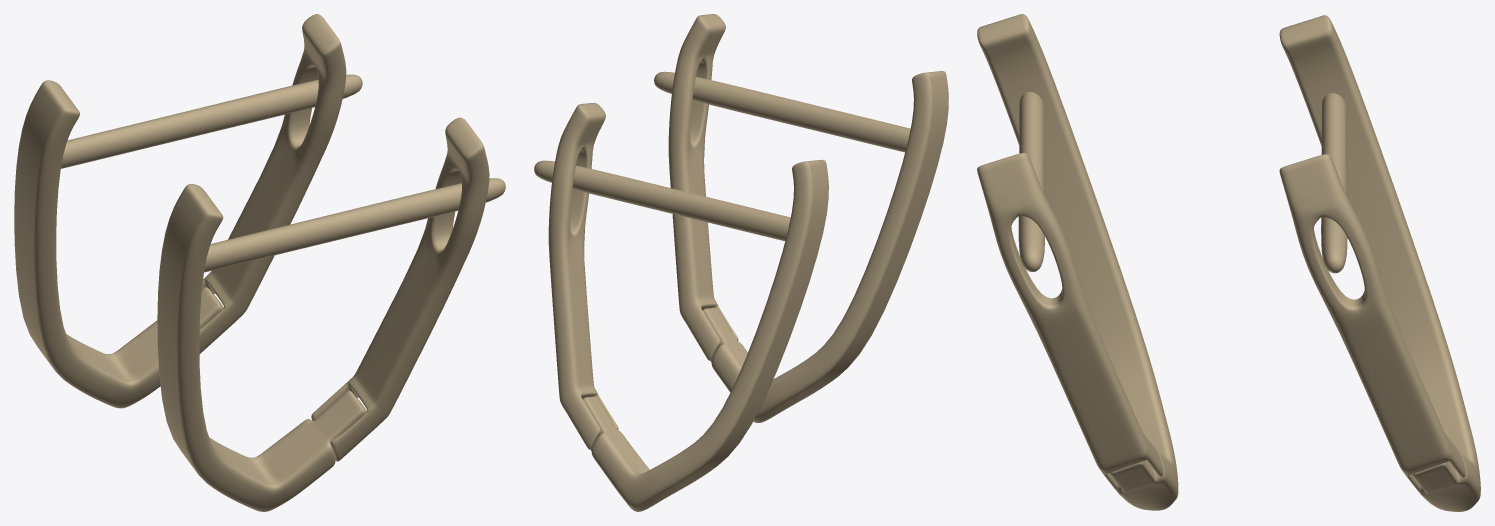
The model's file is earrings.glb.
3 views of the same model, side by side, from view 1: azimuth 30°, elevation 25°; view 2: azimuth 150°, elevation 25°; view 3: azimuth 270°, elevation 25° (orthographic). The views are drawn at different scales.
Visible parts, largest first — view 1: Object_2; view 2: Object_2; view 3: Object_2.
Boxes of the visible parts, left/top/right/bottom form: Object_2: left=14, top=14, right=505, bottom=511; Object_2: left=534, top=14, right=948, bottom=511; Object_2: left=977, top=14, right=1480, bottom=511.
Bounding box in the file's own units: 0.8099 × 0.9365 × 1.
